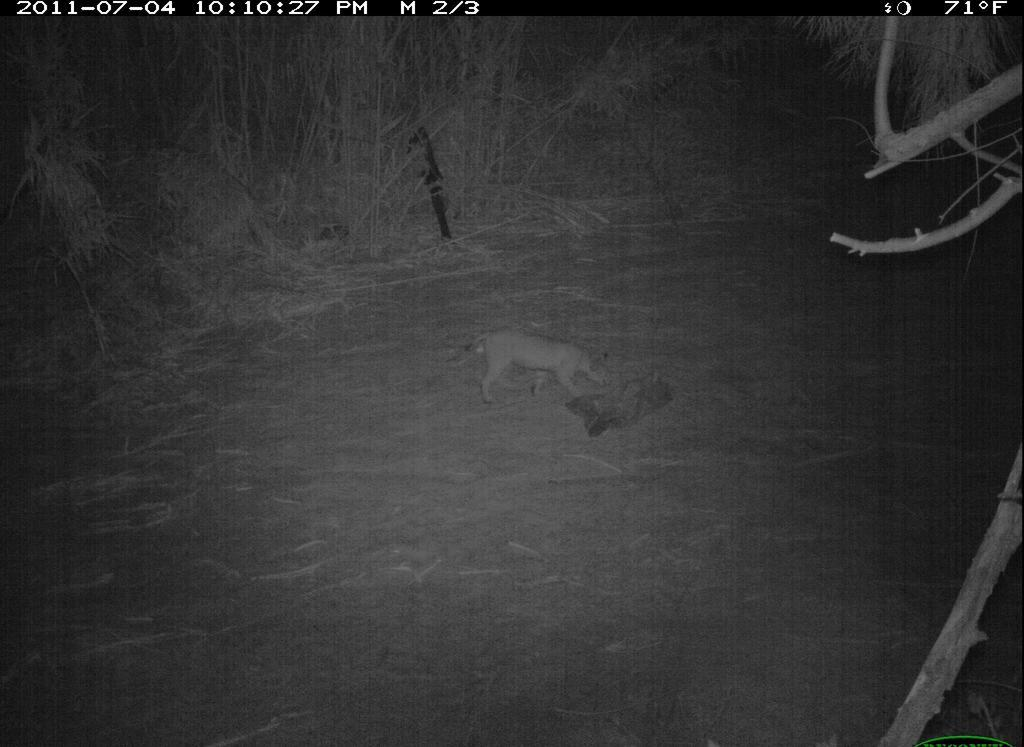bobcat: (455, 315, 625, 409)
